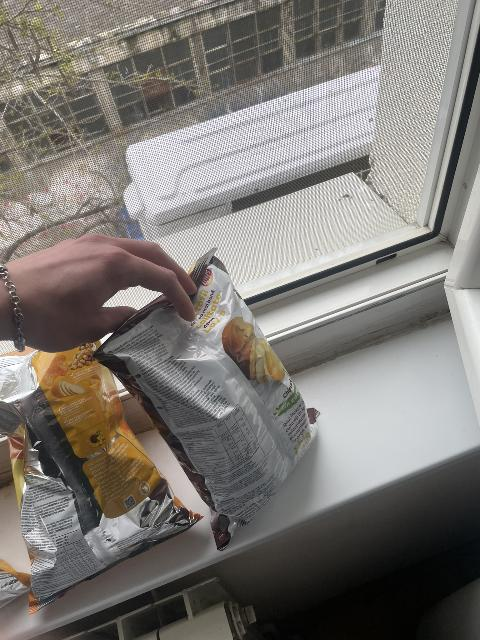Chio Cascaval 125g: (2, 334, 206, 614)
Lays Beef Grilled Ribs 125g: (92, 249, 320, 550)
